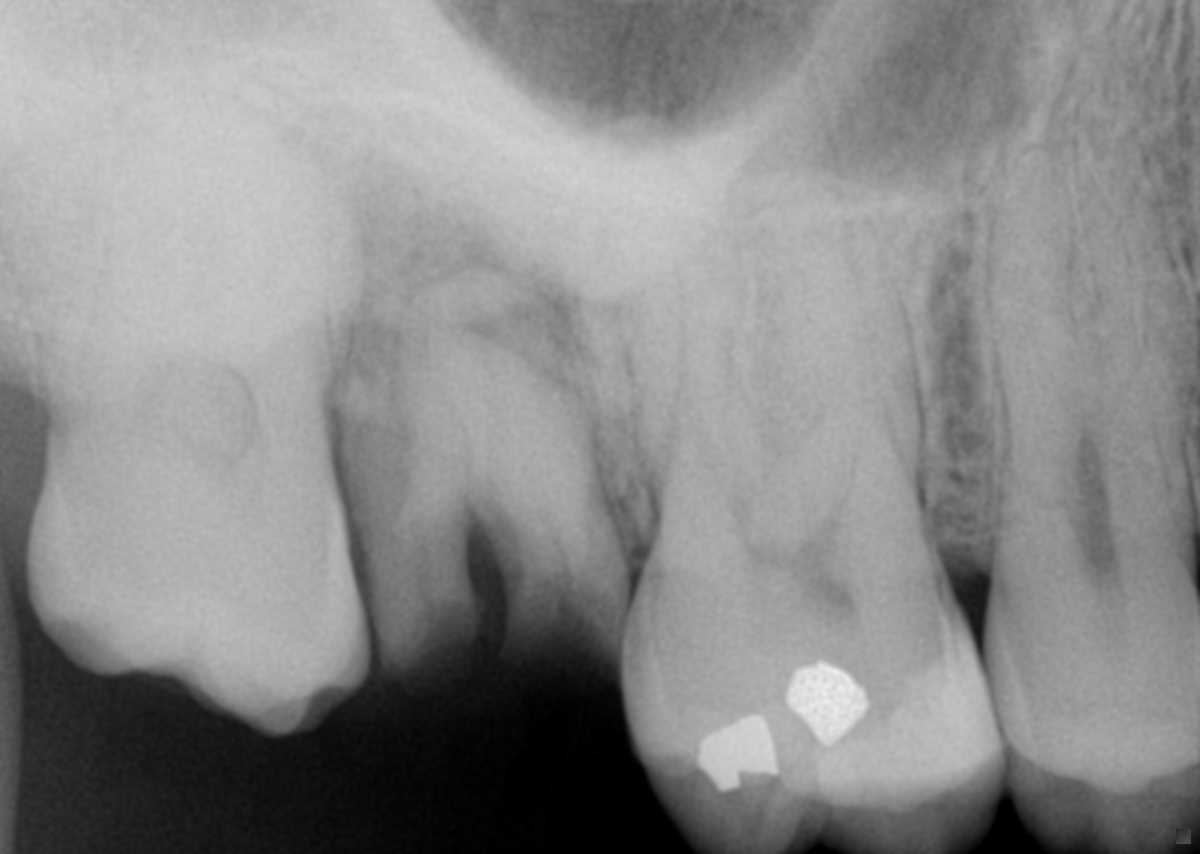Apical Lesion: (359, 191, 582, 345)
Distal Canal: (720, 456, 749, 546)
Distal Root: (624, 220, 782, 522), (985, 146, 1105, 465), (342, 354, 470, 614)
Main Root: (36, 85, 348, 440)
Mesial Canal: (1087, 278, 1154, 446), (822, 395, 857, 527)
Mesial Root: (429, 333, 629, 572), (1075, 101, 1200, 419), (797, 202, 923, 508)
Palatal Root: (657, 2, 926, 551), (398, 268, 621, 529)
decay: (503, 571, 620, 661), (374, 600, 481, 675)
